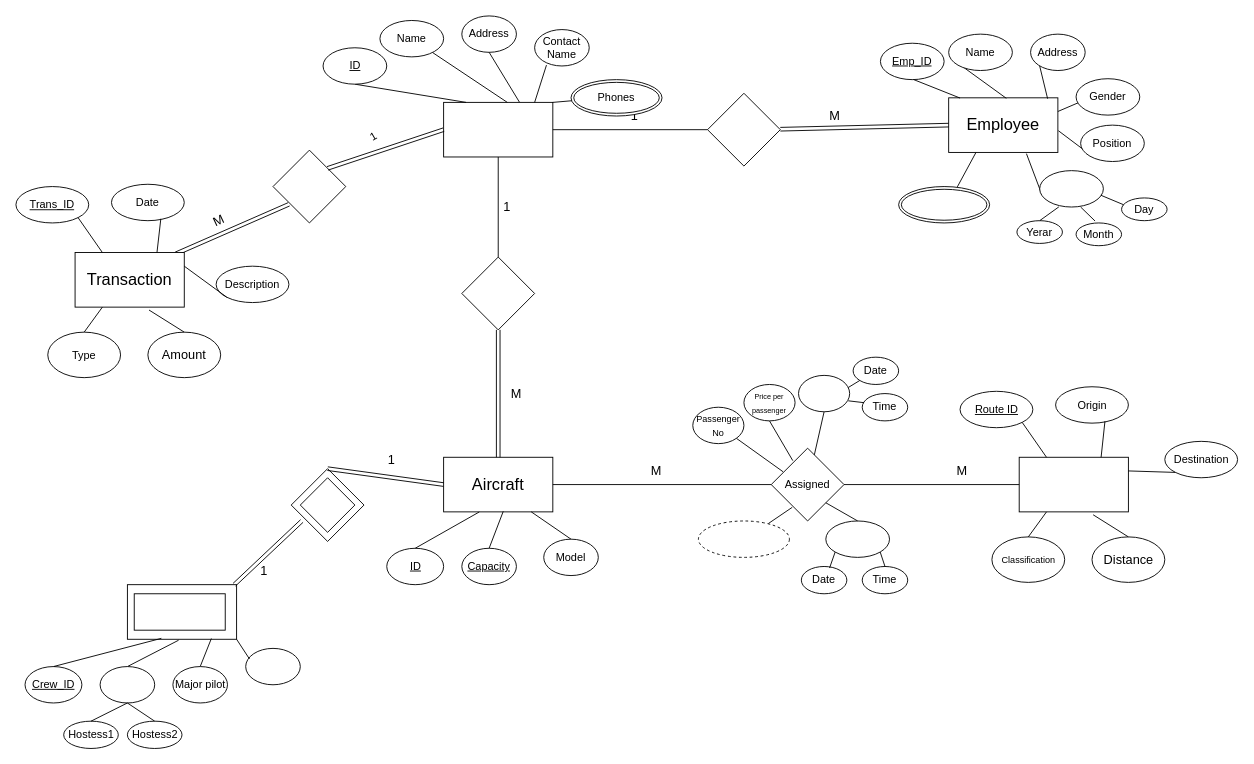
The diagram is 1254 pixels wide and 764 high, and some of its shapes have lost their labels. Here are the shapes that lost their labels. From the top down, the centre of each, then its label:
At pixel 498 129: "Airline".
At pixel 743 129: "Work".
At pixel 309 186: "Records".
At pixel 944 204: "Qualifications".
At pixel 1071 188: "Birthday".
At pixel 498 293: "Owns".
At pixel 824 393: "Departure".
At pixel 327 504: "Has".
At pixel 1073 484: "Route".
At pixel 743 538: "Time spent".
At pixel 857 538: "Arrival".
At pixel 179 611: "Crew".
At pixel 127 684: "Hostess".
At pixel 272 666: "Assistant pilot".
